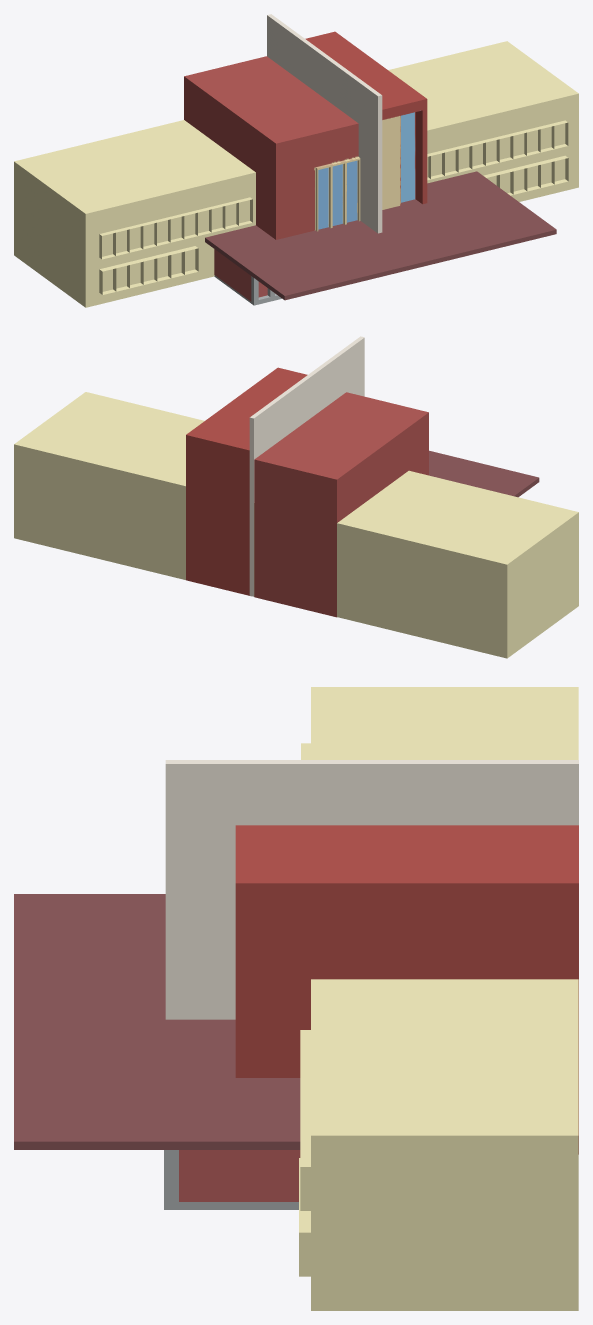
Rendered from AdminBlock.glb.
3 renders of one model, top to bottom at view 1: azimuth 30°, elevation 25°; view 2: azimuth 150°, elevation 25°; view 3: azimuth 270°, elevation 25°, orthographic. The views are drawn at different scales.
Visible parts, largest first — view 1: Cube, Cube.004, Cube.003, Cube.002, Cube.001, Cube.006, Cube.005; view 2: Cube, Cube.004, Cube.001, Cube.002, Cube.003; view 3: Cube, Cube.001, Cube.003, Cube.002, Cube.007, Cube.005.
Boxes of the visible parts, <box> form: Cube: <box>14,41,578,307</box>; Cube.004: <box>184,56,360,239</box>; Cube.003: <box>205,171,556,300</box>; Cube.002: <box>267,14,382,233</box>; Cube.001: <box>305,31,427,209</box>; Cube.006: <box>214,249,267,301</box>; Cube.005: <box>214,275,281,305</box>; Cube: <box>14,392,578,658</box>; Cube.004: <box>254,392,428,617</box>; Cube.001: <box>186,367,307,595</box>; Cube.002: <box>249,336,364,596</box>; Cube.003: <box>429,450,539,497</box>; Cube: <box>299,687,578,1310</box>; Cube.001: <box>235,825,578,1154</box>; Cube.003: <box>14,894,300,1149</box>; Cube.002: <box>165,760,578,1019</box>; Cube.007: <box>179,1150,300,1201</box>; Cube.005: <box>164,1150,298,1209</box>.
Bounding box in the file's own units: 1.86 × 0.6448 × 0.9915.
Materials: 8 (5 with a texture image).
